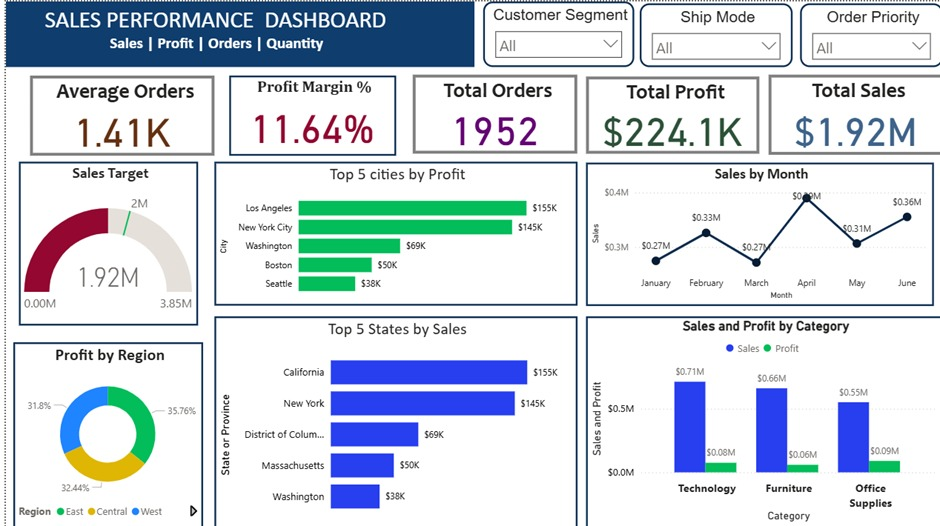

Layout of this report page (visuals, bound fields, positions):
{"tool":"powerbi","page":{"name":"Sales Dashboard ","canvas":[1280,720],"ordinal":0},"visuals":[{"type":"textbox","box":[0,0,640,89.8],"z":0},{"type":"barChart","title":"Top 5 States by Sales","fields":{"Category":["Orders.State or Province"],"Y":["Sum(Orders.Sales)"]},"box":[284.7,430.7,495.7,289.6],"z":1000},{"type":"lineChart","fields":{"Y":["Sum(Orders.Sales)"],"Category":["Orders.Order Date.Variation.Date Hierarchy.Month"]},"box":[792.6,219.6,474.8,196.3],"z":2000},{"type":"slicer","title":"Customer Segment","fields":{"Values":["Orders.Customer Segment"]},"box":[651.5,0,206.1,89.6],"z":3000},{"type":"slicer","title":"Ship Mode","fields":{"Values":["Orders.Ship Mode"]},"box":[866.3,2.5,208.6,87.1],"z":4000},{"type":"barChart","title":"Top 5 cities by Profit","fields":{"Category":["Orders.City"],"Y":["Sum(Orders.Sales)"]},"box":[285.1,219.5,496,196.7],"z":5000},{"type":"clusteredColumnChart","fields":{"Category":["Orders.Product Category"],"Y":["Sum(Orders.Sales)","Sum(Orders.Profit)"]},"box":[792.6,430.7,487.1,289.6],"z":6000},{"type":"card","title":"Total Profit","fields":{"Values":["Sum(Orders.Profit)"]},"box":[792.6,103.1,236.8,105.5],"z":7000},{"type":"card","title":"Total Sales","fields":{"Values":["Sum(Orders.Sales)"]},"box":[1041.7,99.4,238,109.2],"z":8000},{"type":"card","title":"Total Orders","fields":{"Values":["CountNonNull(Orders.Order ID)"]},"box":[555.8,100.6,224.5,108],"z":9000},{"type":"slicer","title":"Order Priority","fields":{"Values":["Orders.Order Priority"]},"box":[1084.7,2.5,195.1,87.1],"z":10000},{"type":"donutChart","title":"Profit by Region","fields":{"Category":["Orders.Region"],"Y":["Sum(Orders.Profit)"]},"box":[10,466.1,259.4,253.7],"z":10001},{"type":"card","title":"Profit Margin %","fields":{"Values":["Orders.profit Margin %"]},"box":[305,101.2,228.1,109.8],"z":10002},{"type":"card","title":"Average Orders ","fields":{"Values":["Orders.Average Order"]},"box":[32.8,101.2,252.3,109.8],"z":10003},{"type":"gauge","title":"Sales Target","fields":{"Y":["Sum(Orders.Sales)"],"TargetValue":["Orders.Sales Target"]},"box":[17.1,219.5,245.2,223.8],"z":10004}]}

Visuals, with their boxes in screenshot pixels (x1, y1, x2, y2), scaled from the page's 1280x720 canvas onto the 940x526 screenshot:
textbox: bbox=[0, 0, 470, 66]
"Top 5 States by Sales" barChart: bbox=[209, 315, 573, 525]
lineChart - Sum(Orders.Sales) x Orders.Order Date.Variation.Date Hierarchy.Month: bbox=[582, 160, 931, 304]
"Customer Segment" slicer: bbox=[478, 0, 630, 65]
"Ship Mode" slicer: bbox=[636, 2, 789, 65]
"Top 5 cities by Profit" barChart: bbox=[209, 160, 574, 304]
clusteredColumnChart - Orders.Product Category x Sum(Orders.Sales): bbox=[582, 315, 939, 525]
"Total Profit" card: bbox=[582, 75, 756, 152]
"Total Sales" card: bbox=[765, 73, 939, 152]
"Total Orders" card: bbox=[408, 73, 573, 152]
"Order Priority" slicer: bbox=[797, 2, 939, 65]
"Profit by Region" donutChart: bbox=[7, 341, 198, 525]
"Profit Margin %" card: bbox=[224, 74, 391, 154]
"Average Orders " card: bbox=[24, 74, 209, 154]
"Sales Target" gauge: bbox=[13, 160, 193, 324]
